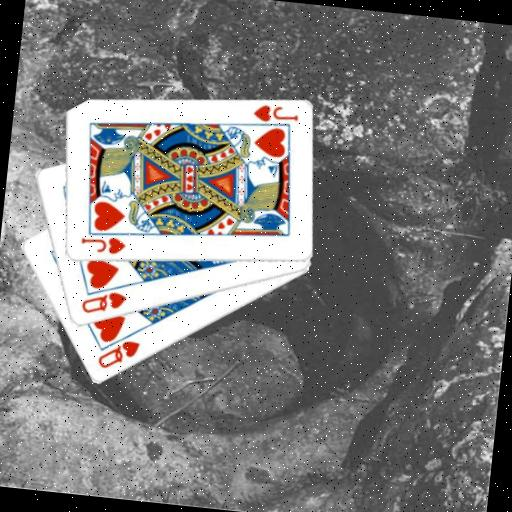JH: (77, 232, 128, 258), (250, 101, 301, 127)
QH: (93, 335, 142, 375), (77, 285, 129, 319)
